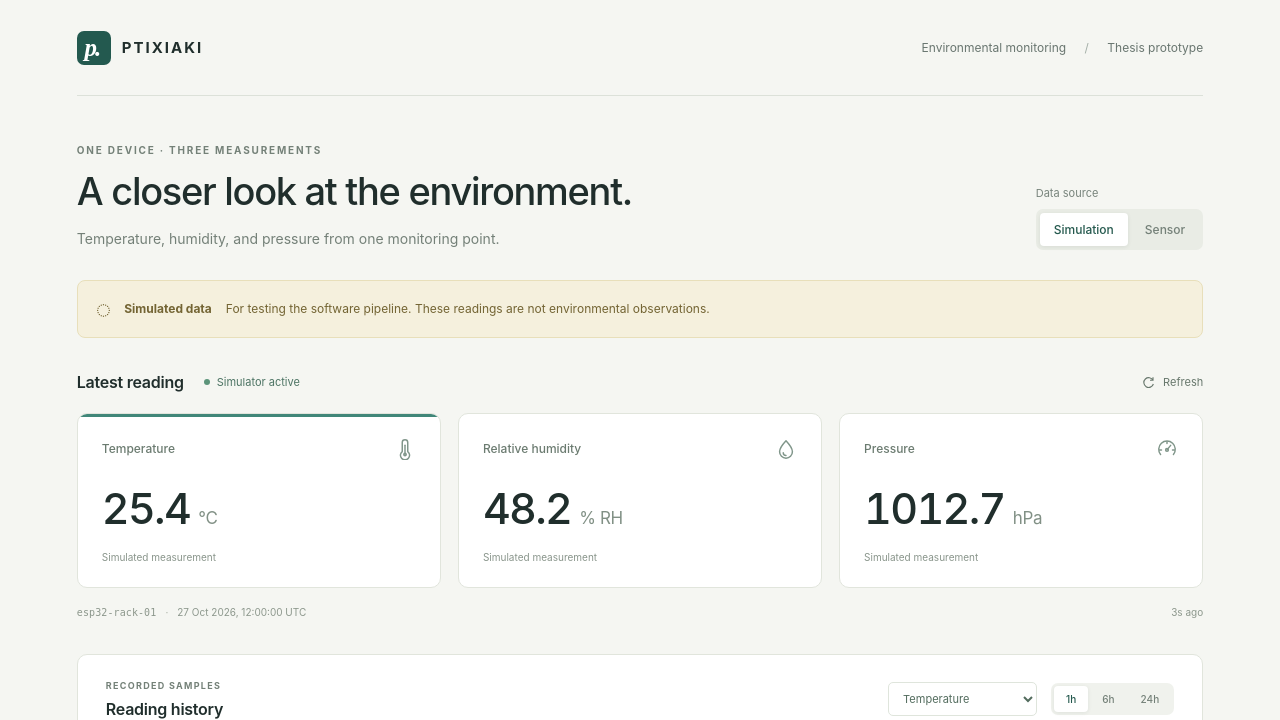
Test case: dashboard data integrity › labels simulation and clears simulated values when switching to an empty sensor source
Expected: the text "25.4" is shown, [102,482,190,534]
Expected: the text "Simulated data" is shown, [124,301,212,316]
Click the button "Sensor" at coordinates (1165, 229), box [1131,213,1199,246]
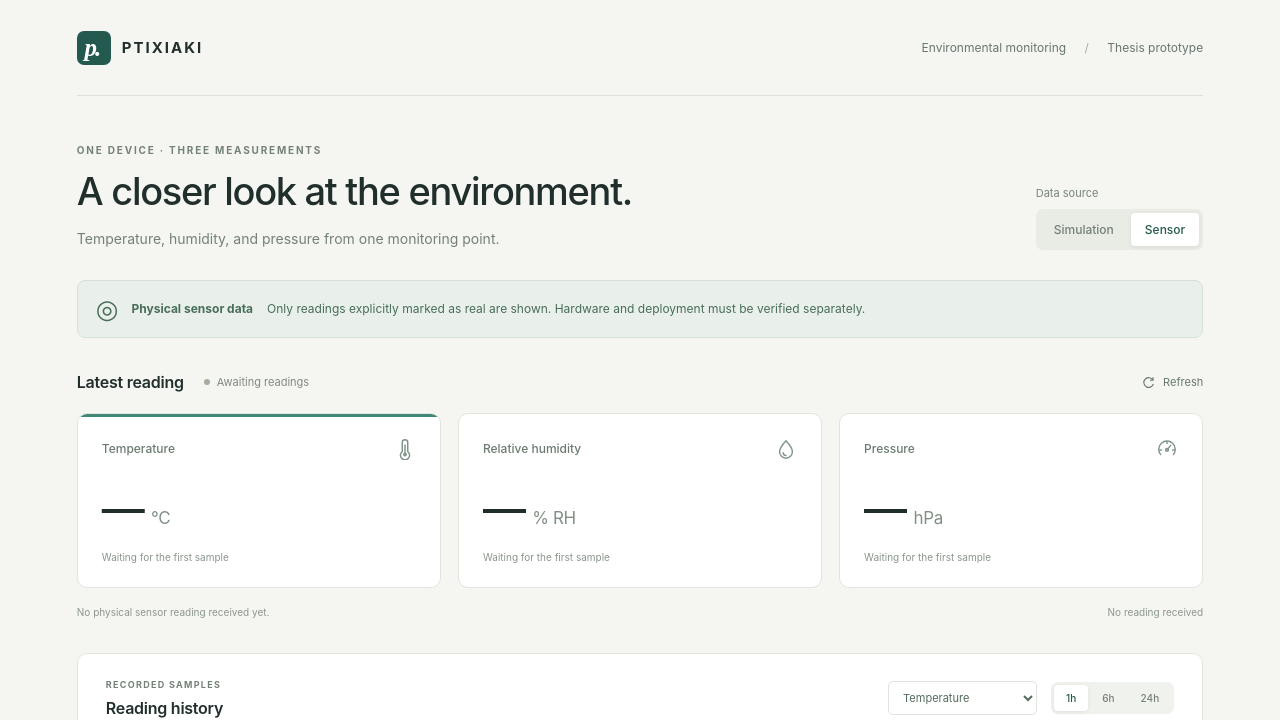
Expected: the text "25.4" is gone
Expected: the text "No physical sensor reading received yet." is shown, [77,603,269,621]
Expected: the text "Physical sensor data" is shown, [132,301,253,316]
